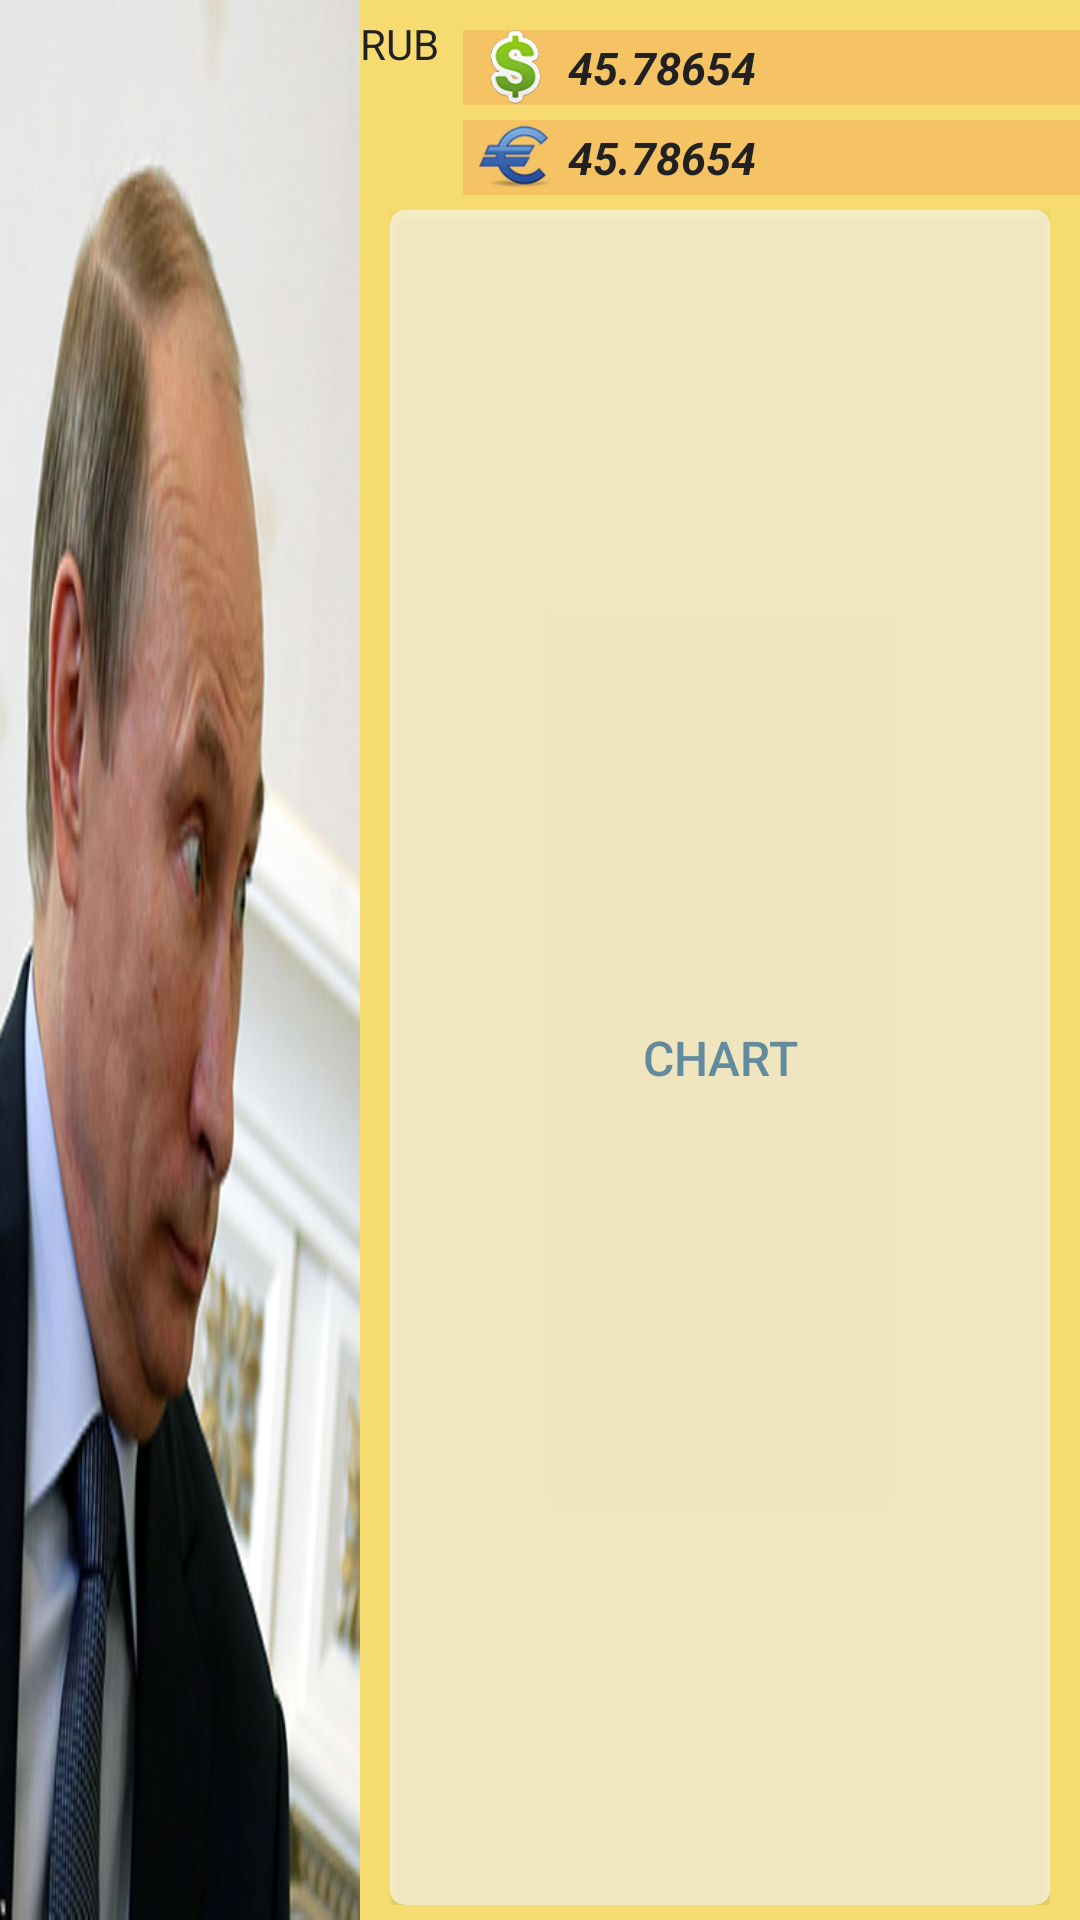

Where icons sit on this 1080px×1920px app screen, as Rect(x1, y1, x2, y2):
dollar: Rect(490, 30, 541, 104)
eur: Rect(479, 126, 549, 186)
